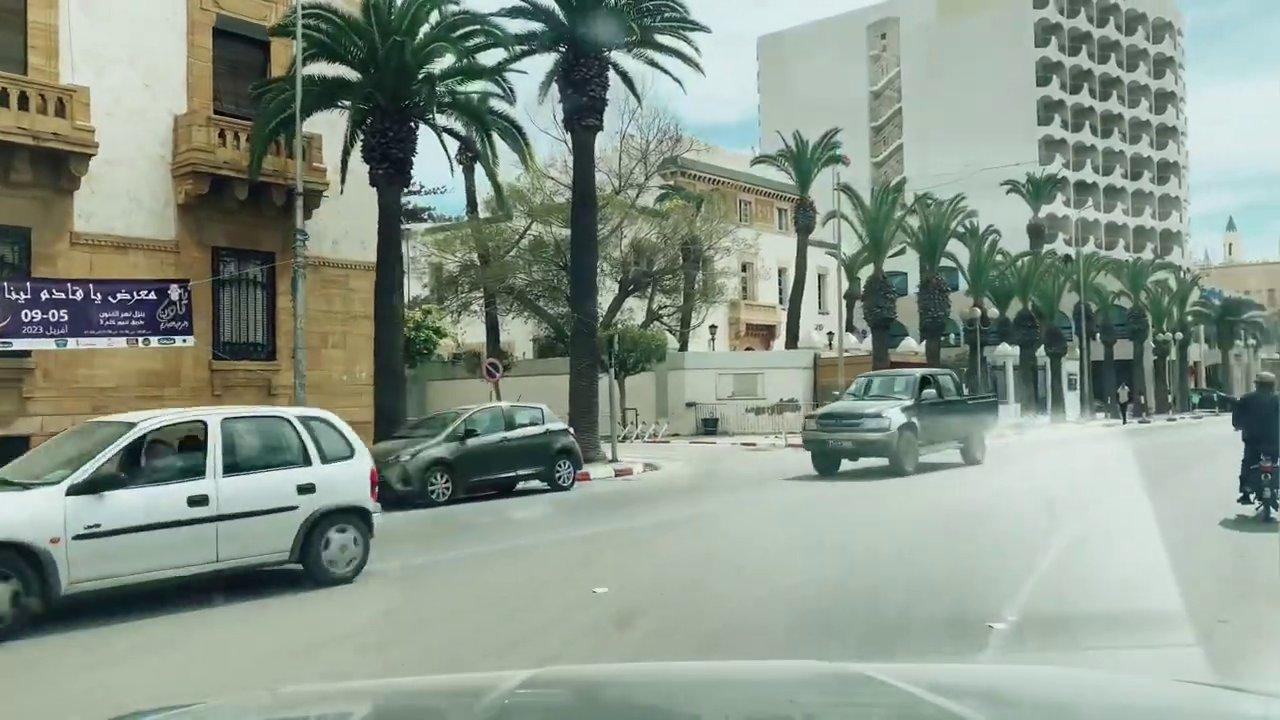no parking: (480, 358, 504, 384)
